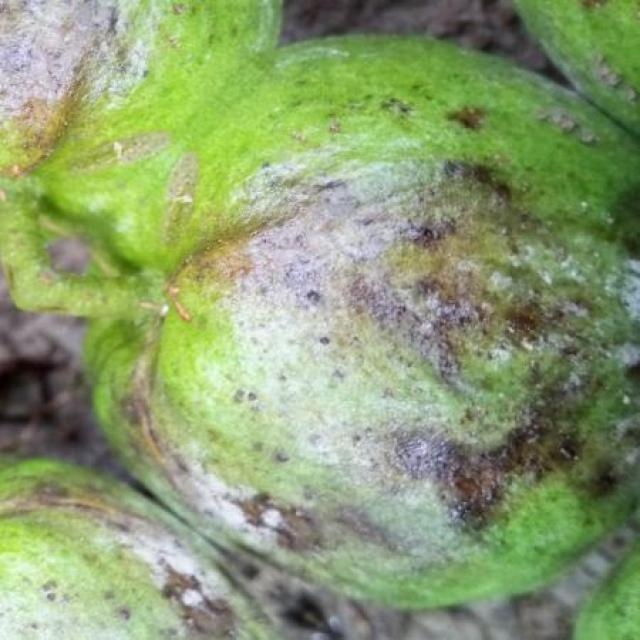Disease Free: (0, 0, 640, 640), (0, 0, 158, 174)
